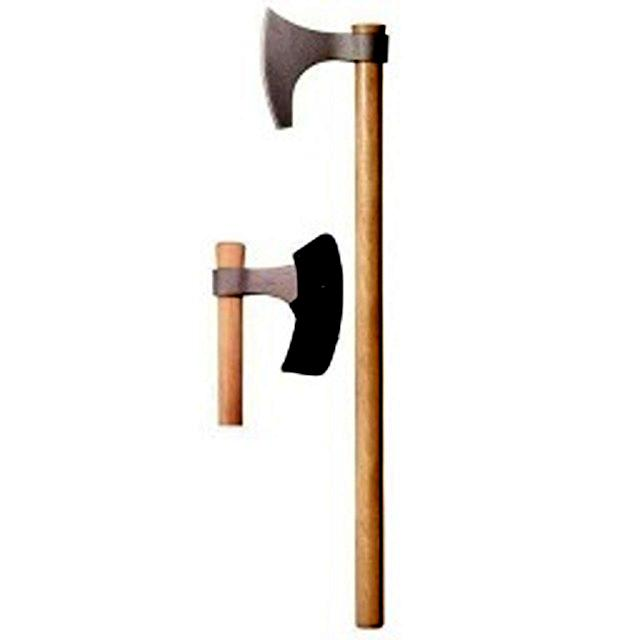ax: (252, 0, 403, 640), (204, 224, 350, 438)
